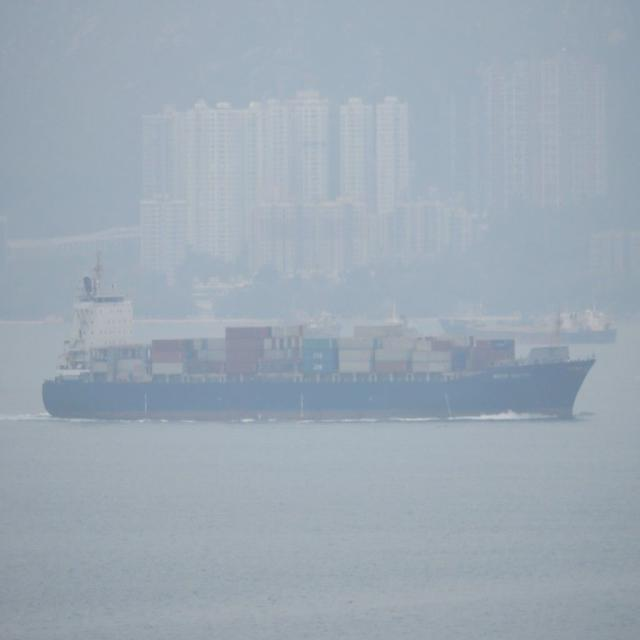cargoship: (41, 282, 589, 422), (440, 292, 618, 345)
